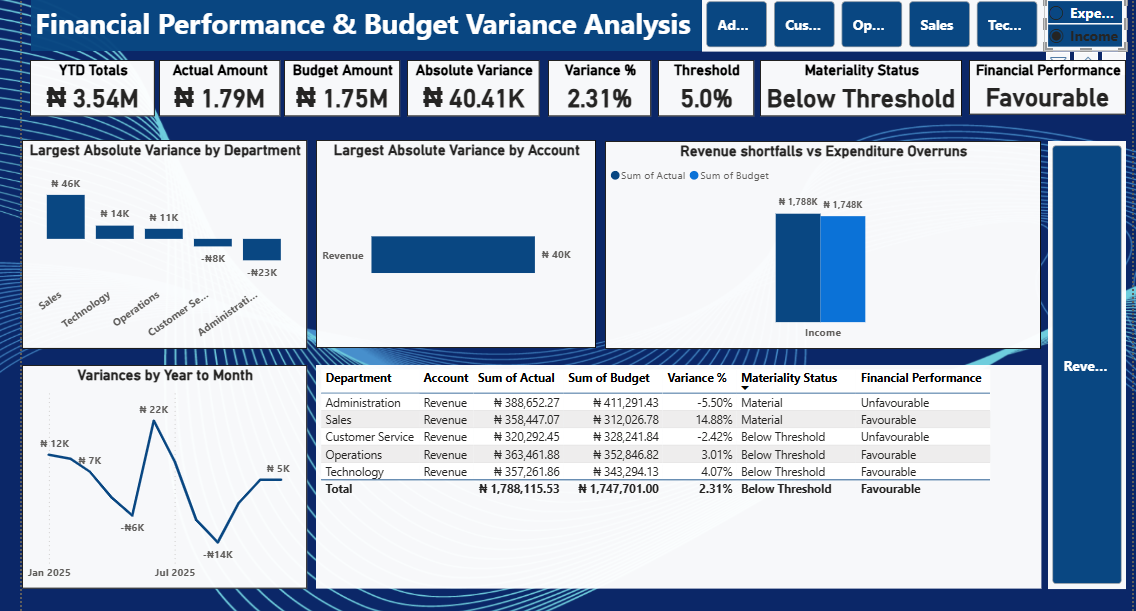

The dashboard page shown, as its layout file describes it:
{"tool":"powerbi","page":{"name":"Page 1","canvas":[1280,720],"ordinal":0},"visuals":[{"type":"card","title":"Actual  Amount","fields":{"Values":["Sum(dataset_raw.Actual)"]},"box":[158.1,83.1,139.6,64.6],"z":0},{"type":"card","title":"Budget  Amount","fields":{"Values":["Sum(dataset_raw.Budget)"]},"box":[302.3,83.1,133.8,64.6],"z":1000},{"type":"card","title":"Absolute Variance","fields":{"Values":["dataset_raw.Absolute Variance"]},"box":[444.2,83.1,153.5,64.6],"z":2000},{"type":"card","title":" Variance %","fields":{"Values":["dataset_raw.Variance %"]},"box":[606.9,83.1,118.8,64.6],"z":3000},{"type":"clusteredBarChart","title":"Largest Absolute Variance by Account","fields":{"Category":["dataset_raw.Account"],"Y":["dataset_raw.Absolute Variance"]},"box":[339.2,175.4,323.1,240],"z":4000},{"type":"clusteredColumnChart","title":"Largest Absolute Variance by Department","fields":{"Category":["dataset_raw.Department"],"Y":["dataset_raw.Absolute Variance"]},"box":[0,175.4,328.8,241.2],"z":5000},{"type":"clusteredColumnChart","title":"Revenue shortfalls vs Expenditure Overruns","fields":{"Category":["dataset_raw.Type"],"Y":["Sum(dataset_raw.Actual)","Sum(dataset_raw.Budget)"]},"box":[672.7,176.5,503.1,240],"z":6000},{"type":"lineChart","title":"Variances by Year to Month","fields":{"Category":["dataset_raw.Period.Variation.Date Hierarchy.Year","dataset_raw.Period.Variation.Date Hierarchy.Month","dataset_raw.Period.Variation.Date Hierarchy.Day"],"Y":["dataset_raw.Absolute Variance"]},"box":[0,435,328.8,258.5],"z":7000},{"type":"textbox","box":[10.4,12.7,774.2,60],"z":8000},{"type":"advancedSlicerVisual","fields":{"Values":["dataset_raw.Department"]},"box":[784.6,10.4,394.6,63.5],"z":9000},{"type":"listSlicer","fields":{"Values":["dataset_raw.Type"]},"box":[1179.8,10.3,95.1,63],"z":10000},{"type":"card","title":"Threshold","fields":{"Values":["dataset_raw.Materiality Threshold"]},"box":[733.8,83.1,110.8,64.6],"z":11000},{"type":"card","title":"Financial Performance","fields":{"Values":["dataset_raw.Favourable Unfavourable KPI"]},"box":[1092.7,83.1,181.2,63.5],"z":12000},{"type":"advancedSlicerVisual","fields":{"Values":["dataset_raw.Account"]},"box":[1183.8,176.5,90,516.9],"z":13000},{"type":"card","title":"Materiality Status","fields":{"Values":["dataset_raw.Materiality Status"]},"box":[851.5,83.1,233.1,64.6],"z":14000},{"type":"tableEx","fields":{"Values":["dataset_raw.Department","dataset_raw.Account","Sum(dataset_raw.Actual)","Sum(dataset_raw.Budget)","dataset_raw.Variance %","dataset_raw.Materiality Status","dataset_raw.Favourable Unfavourable KPI"]},"box":[339.2,435,836.5,258.5],"z":15000},{"type":"card","title":"YTD Totals","fields":{"Values":["dataset_raw.YTD Total"]},"box":[9.2,83.1,144.2,64.6],"z":16000}]}

Visuals, with their boxes in screenshot pixels (x1, y1, x2, y2):
"Actual  Amount" card: region(155, 57, 277, 114)
"Budget  Amount" card: region(281, 57, 397, 114)
"Absolute Variance" card: region(404, 57, 538, 114)
" Variance %" card: region(546, 57, 649, 114)
"Largest Absolute Variance by Account" clusteredBarChart: region(313, 138, 594, 346)
"Largest Absolute Variance by Department" clusteredColumnChart: region(18, 138, 304, 347)
"Revenue shortfalls vs Expenditure Overruns" clusteredColumnChart: region(603, 139, 1040, 347)
"Variances by Year to Month" lineChart: region(18, 363, 304, 588)
textbox: region(27, 0, 700, 48)
advancedSlicerVisual - dataset_raw.Department: region(700, 0, 1043, 49)
listSlicer - dataset_raw.Type: region(1044, 0, 1126, 49)
"Threshold" card: region(656, 57, 752, 114)
"Financial Performance" card: region(968, 57, 1126, 113)
advancedSlicerVisual - dataset_raw.Account: region(1047, 139, 1125, 588)
"Materiality Status" card: region(758, 57, 961, 114)
tableEx - dataset_raw.Department x dataset_raw.Account: region(313, 363, 1040, 588)
"YTD Totals" card: region(26, 57, 151, 114)
